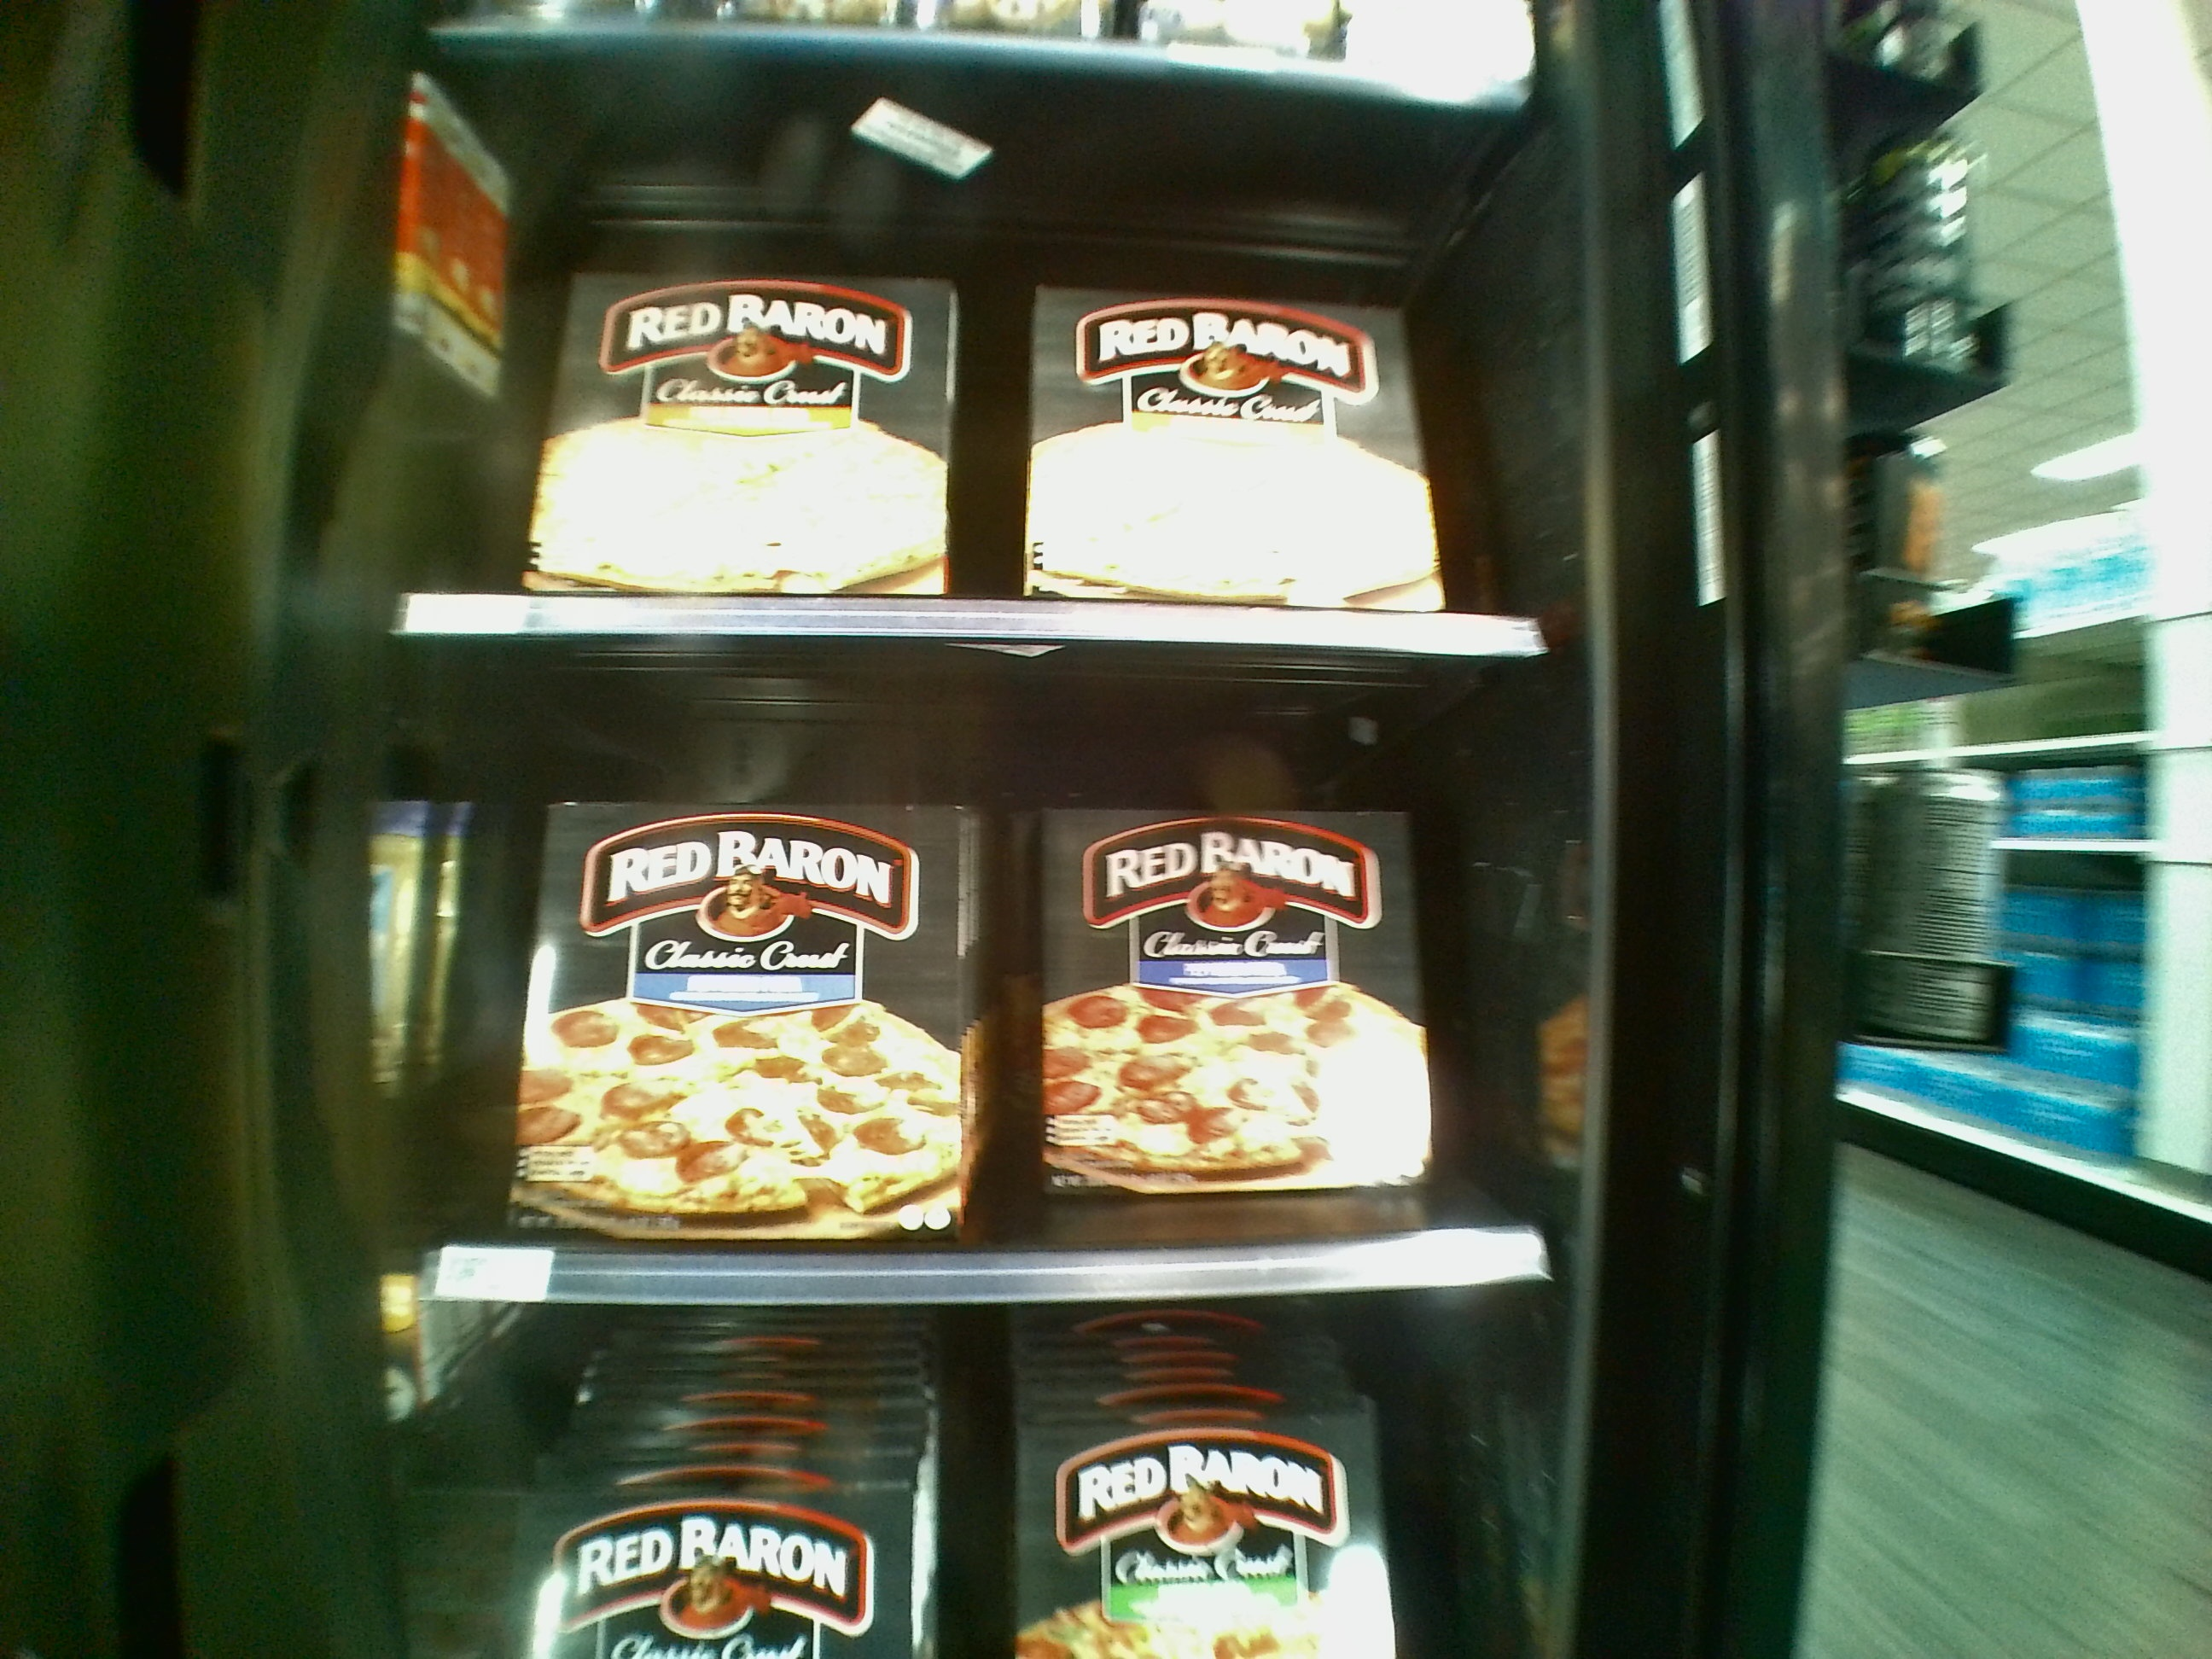shelf: (406, 640, 1594, 1314), (425, 56, 1580, 653)
